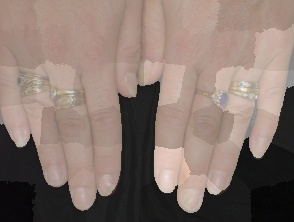Nail_psoriasis: (65, 178, 103, 216), (129, 49, 163, 91), (175, 177, 208, 215), (202, 163, 235, 200), (3, 114, 37, 149), (92, 167, 123, 200), (154, 162, 179, 196), (120, 62, 140, 102), (41, 160, 68, 187), (250, 132, 272, 161)
